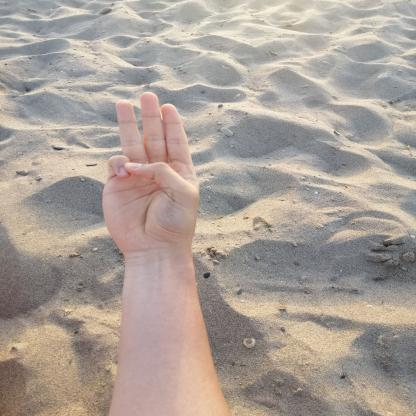THA: (87, 84, 213, 262)
